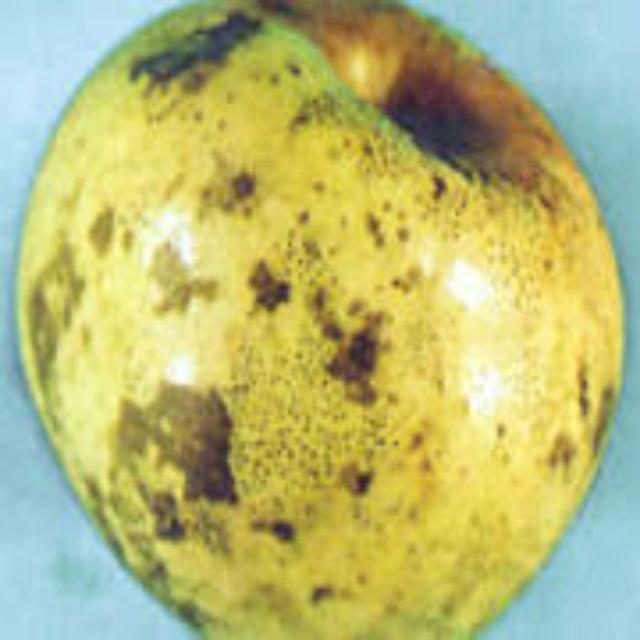Rotten Apple: (15, 33, 612, 616)
